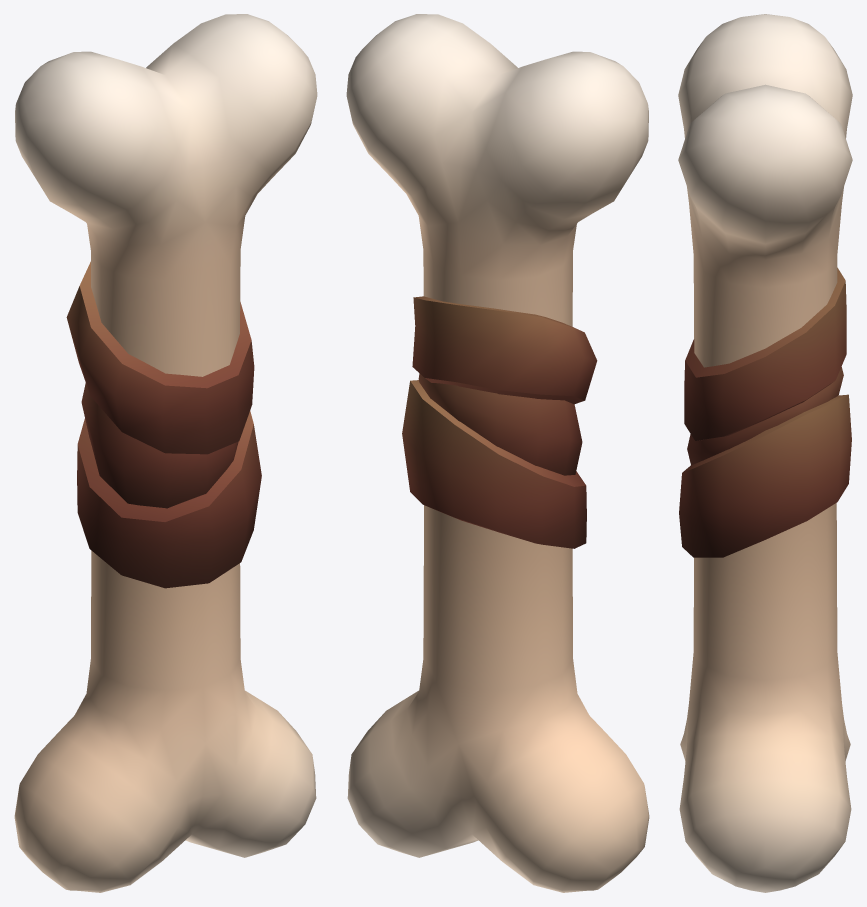
The model's file is Bone.fbx.
The picture shows the model from 3 angles, left to right: view 1: azimuth 30°, elevation 25°; view 2: azimuth 150°, elevation 25°; view 3: azimuth 270°, elevation 25°; orthographic projection. The views are drawn at different scales.
Parts seen in each view (by area): view 1: bone; view 2: bone; view 3: bone.
Boxes of the visible parts, x1,y1,x2,y2 form: bone: [14, 14, 317, 892]; bone: [346, 14, 649, 892]; bone: [678, 14, 852, 892].
Bounding box in the file's own units: 40.31 × 114 × 22.74.
